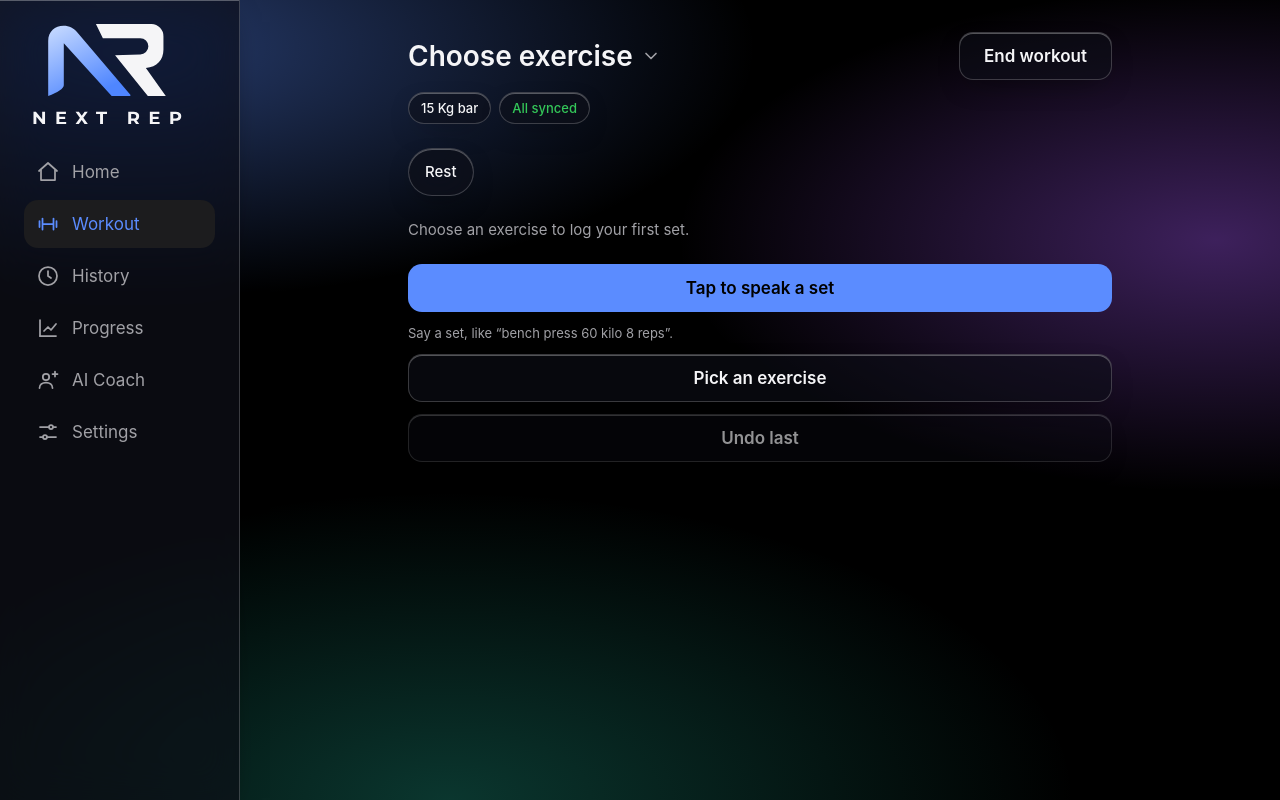
Test: starting and replacing a rest › starts a custom rest of 30 from the keyboard with Enter
Click the button "Rest" at (441, 172), box left=408, top=148, right=474, bottom=196
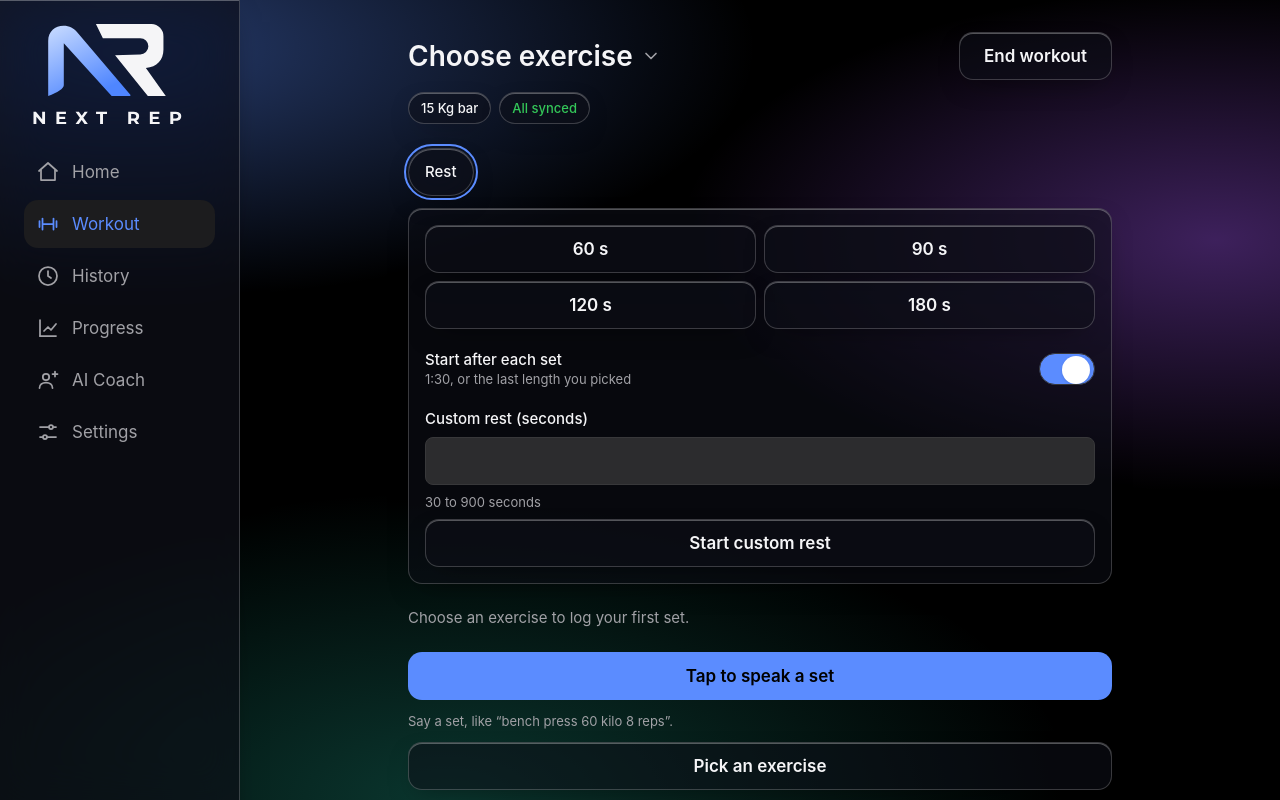
Type "30" into the field labelled "Custom rest (seconds)" at (760, 461), box left=425, top=437, right=1095, bottom=485
Then press Enter
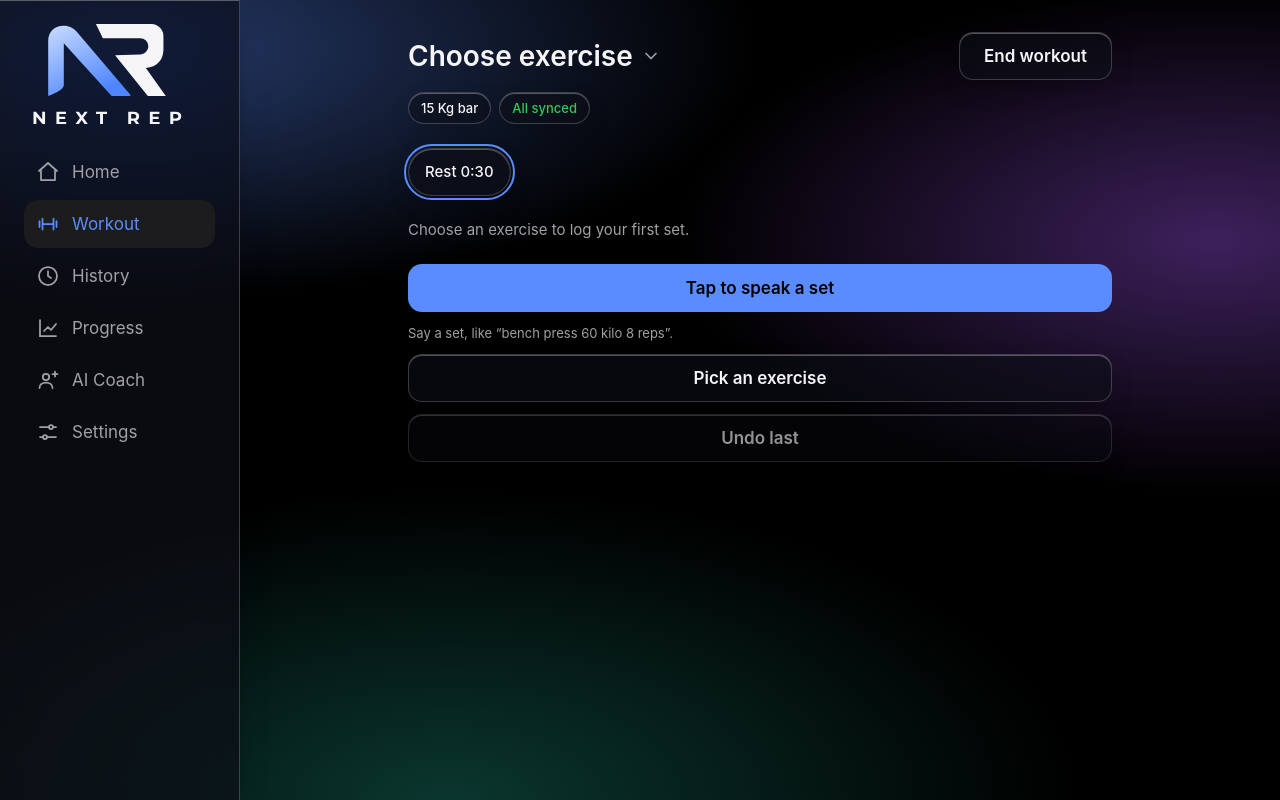
Expected: the button "Rest 0:30" is shown, left=408, top=148, right=511, bottom=196
